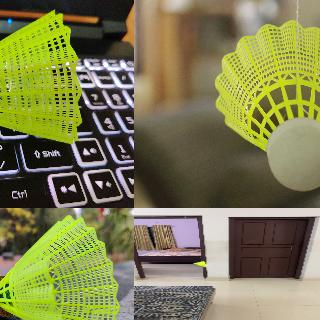shuttlecock: (214, 20, 319, 191), (0, 213, 121, 319), (0, 8, 80, 147), (193, 260, 207, 267)
